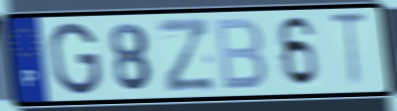6: (276, 14, 320, 90)
8: (109, 21, 154, 94)
B: (212, 16, 269, 93)
G: (47, 20, 104, 97)
T: (326, 11, 371, 91)
Z: (155, 16, 218, 96)
